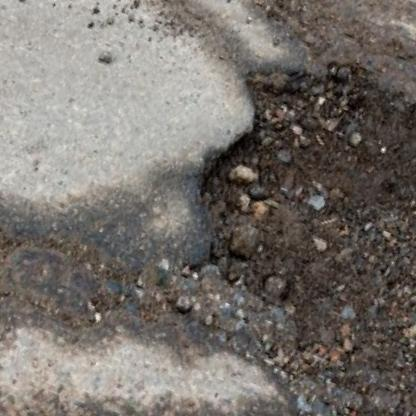pothole: (143, 22, 416, 416)
